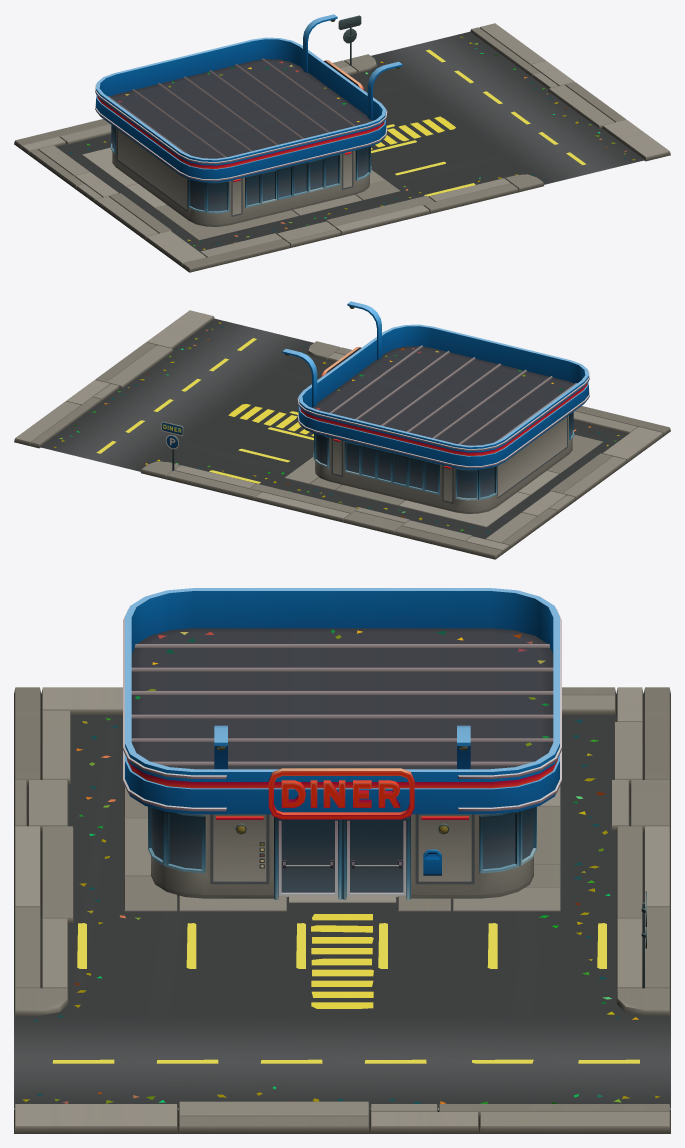
Rendered from Diner_1A.fbx.
3 renders of one model, top to bottom at view 1: azimuth 30°, elevation 25°; view 2: azimuth 150°, elevation 25°; view 3: azimuth 270°, elevation 25°, orthographic. The views are drawn at different scales.
Parts seen in each view (by area): view 1: Diner_1A, Diner_1A_Leaves; view 2: Diner_1A, Diner_1A_Leaves; view 3: Diner_1A, Diner_1A_Lights, Diner_1A_Leaves.
Boxes of the visible parts, x1,y1,x2,y2 form: Diner_1A: (14, 14, 670, 272); Diner_1A_Leaves: (69, 36, 635, 249); Diner_1A: (14, 301, 670, 559); Diner_1A_Leaves: (54, 322, 619, 533); Diner_1A: (14, 588, 670, 1133); Diner_1A_Lights: (217, 748, 467, 856); Diner_1A_Leaves: (22, 629, 659, 1103).
Bounding box in the file's own units: 3800 × 786 × 2400.
